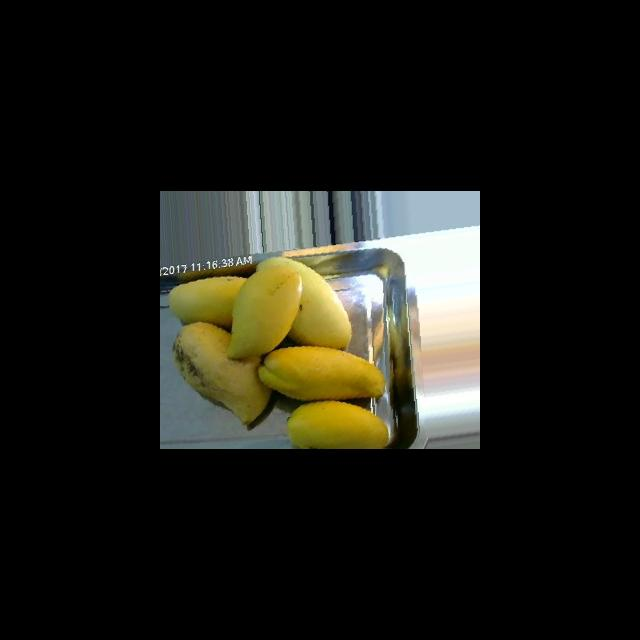mango: (168, 256, 389, 448), (172, 321, 271, 426), (255, 256, 351, 348), (226, 265, 302, 358), (257, 345, 385, 400), (286, 400, 388, 448), (167, 275, 247, 327)
